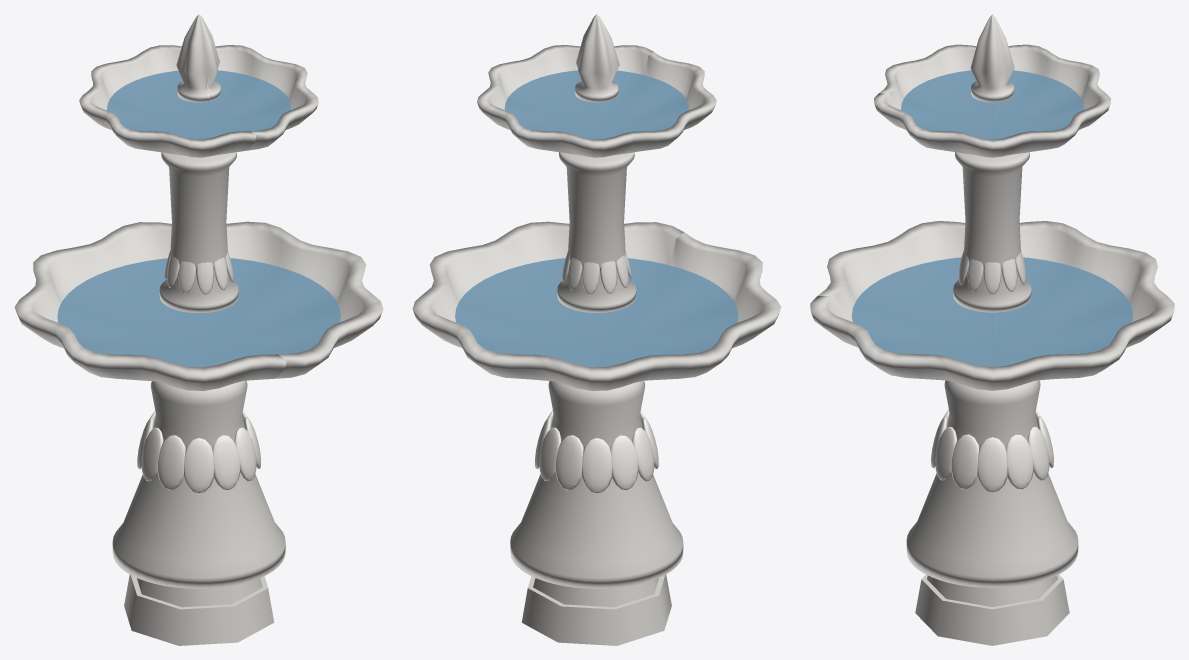
3 renders of one model, left to right at view 1: azimuth 30°, elevation 25°; view 2: azimuth 150°, elevation 25°; view 3: azimuth 270°, elevation 25°, orthographic.
Visible parts, largest first — view 1: basin-basin-2, col-bell-1, eau-basin-2, basin-basin-4, eau-basin-4, col-col-3, base-base-0, flame-flame-5, base-base-0-b, leaf-bell-1-4, leaf-bell-1-3, leaf-bell-1-5 (+2 smaller); view 2: basin-basin-2, col-bell-1, eau-basin-2, basin-basin-4, eau-basin-4, col-col-3, base-base-0, flame-flame-5, base-base-0-b, leaf-bell-1-8, leaf-bell-1-9, leaf-bell-1-7 (+2 smaller); view 3: basin-basin-2, eau-basin-2, col-bell-1, basin-basin-4, eau-basin-4, col-col-3, base-base-0, flame-flame-5, base-base-0-b, leaf-bell-1-0, leaf-bell-1-1, leaf-bell-1-11 (+2 smaller).
Part boxes in pixels (x1,y1,x2,y2): basin-basin-2: (14,221,383,390); col-bell-1: (112,380,285,588); eau-basin-2: (57,258,340,367); basin-basin-4: (79,45,318,157); eau-basin-4: (107,70,291,139); col-col-3: (159,152,238,312); base-base-0: (124,574,274,645); flame-flame-5: (176,14,220,102); base-base-0-b: (137,578,262,607); leaf-bell-1-4: (183,438,214,493); leaf-bell-1-3: (212,435,240,490); leaf-bell-1-5: (157,435,185,490); basin-basin-2: (412,221,781,390); col-bell-1: (510,381,683,588); eau-basin-2: (455,258,738,367); basin-basin-4: (477,45,716,157); eau-basin-4: (504,70,688,139); col-col-3: (557,152,636,312); base-base-0: (521,574,671,645); flame-flame-5: (575,14,619,102); base-base-0-b: (533,578,658,607); leaf-bell-1-8: (581,438,612,493); leaf-bell-1-9: (555,435,583,490); leaf-bell-1-7: (610,435,638,490); basin-basin-2: (810,221,1174,390); eau-basin-2: (851,257,1133,367); col-bell-1: (906,380,1078,587); basin-basin-4: (874,44,1110,157); eau-basin-4: (901,70,1083,139); col-col-3: (953,152,1031,312); base-base-0: (915,574,1069,645); flame-flame-5: (970,14,1014,102); base-base-0-b: (927,575,1057,606); leaf-bell-1-0: (977,437,1007,492); leaf-bell-1-1: (951,434,979,489); leaf-bell-1-11: (1005,434,1033,489).
Size of the model in its own units: 0.8 by 1.45 by 0.8.
